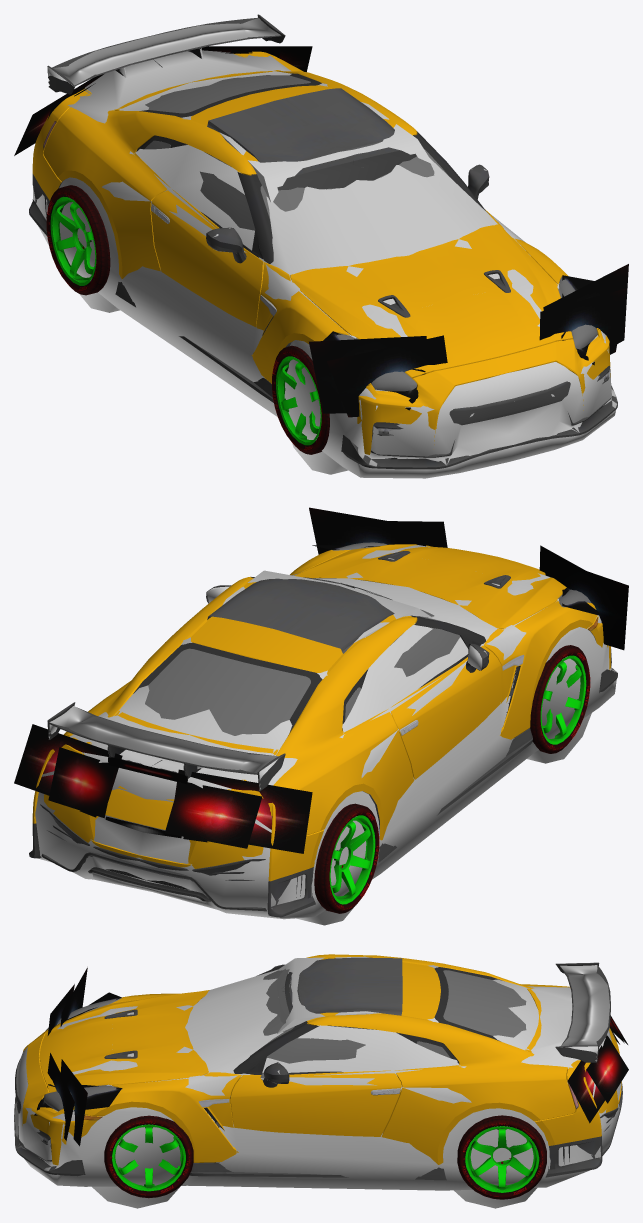
The model's file is P_car-010_Nisun.fbx.
3 views of the same model, one above another, from view 1: azimuth 30°, elevation 25°; view 2: azimuth 150°, elevation 25°; view 3: azimuth 270°, elevation 25° (orthographic). The views are drawn at different scales.
Parts seen in each view (by area): view 1: M_Car-010_ShadowForm_Nisun_01, M_Car-010_Body_Nisun_01 (1), M_Car-010_Details_Nisun_01 (1), M_Car-010_FrontFlares_Nisun_01, M_Car-Interior_Details_01, M_Car-010_Glass_Nisun_01 (1), M_CarWheel-002_L_AP_01 (×2), M_Car-Interior_Shadowform_01, M_Car-Interior_Glass_01, M_CarTire-002_L_AP_01 (×2), M_Car-010_BackFlareBrake_Nisun_01, M_CarTire-002_L_AP (×2); view 2: M_Car-010_Body_Nisun_01 (1), M_Car-010_ShadowForm_Nisun_01, M_Car-010_BackFlareBrake_Nisun_01, M_Car-010_Details_Nisun_01 (1), M_Car-010_Glass_Nisun_01 (1), M_Car-Interior_Details_01, M_Car-010_FrontFlares_Nisun_01, M_CarWheel-002_L_AP_01 (×2), M_CarTire-002_L_AP (×2), M_Car-Interior_Shadowform_01, M_CarTire-002_L_AP_01 (×2); view 3: M_Car-010_Body_Nisun_01 (1), M_Car-010_ShadowForm_Nisun_01, M_Car-010_Details_Nisun_01 (1), M_Car-010_Glass_Nisun_01 (1), M_Car-Interior_Details_01, M_CarWheel-002_L_AP_01 (×2), M_Car-010_FrontFlares_Nisun_01, M_Car-010_BackFlareBrake_Nisun_01, M_CarTire-002_L_AP (×2), M_CarTire-002_L_AP_01 (×2), M_Car-Interior_Shadowform_01, M_Car-Interior_Glass_01.
Part boxes in pixels (x1,y1,x2,y2): M_Car-010_ShadowForm_Nisun_01: [32, 15, 616, 478]; M_Car-010_Body_Nisun_01 (1): [32, 51, 610, 454]; M_Car-010_Details_Nisun_01 (1): [29, 14, 617, 469]; M_Car-010_FrontFlares_Nisun_01: [309, 264, 628, 417]; M_Car-Interior_Details_01: [207, 88, 400, 175]; M_Car-010_Glass_Nisun_01 (1): [144, 75, 597, 391]; M_CarWheel-002_L_AP_01 (×2): [46, 185, 329, 454]; M_Car-Interior_Shadowform_01: [219, 102, 432, 202]; M_Car-Interior_Glass_01: [277, 150, 416, 190]; M_CarTire-002_L_AP_01 (×2): [50, 196, 309, 427]; M_Car-010_BackFlareBrake_Nisun_01: [14, 46, 312, 155]; M_CarTire-002_L_AP (×2): [62, 214, 321, 445]; M_Car-010_Body_Nisun_01 (1): [32, 544, 610, 881]; M_Car-010_ShadowForm_Nisun_01: [35, 545, 616, 925]; M_Car-010_BackFlareBrake_Nisun_01: [14, 724, 312, 853]; M_Car-010_Details_Nisun_01 (1): [29, 551, 617, 917]; M_Car-010_Glass_Nisun_01 (1): [145, 542, 591, 735]; M_Car-Interior_Details_01: [207, 577, 394, 653]; M_Car-010_FrontFlares_Nisun_01: [309, 507, 628, 650]; M_CarWheel-002_L_AP_01 (×2): [314, 645, 590, 913]; M_CarTire-002_L_AP (×2): [337, 656, 586, 904]; M_Car-Interior_Shadowform_01: [222, 570, 432, 642]; M_CarTire-002_L_AP_01 (×2): [329, 655, 574, 903]; M_Car-010_Body_Nisun_01 (1): [22, 954, 621, 1165]; M_Car-010_ShadowForm_Nisun_01: [14, 962, 621, 1208]; M_Car-010_Details_Nisun_01 (1): [14, 962, 622, 1180]; M_Car-010_Glass_Nisun_01 (1): [43, 969, 526, 1111]; M_Car-Interior_Details_01: [260, 957, 402, 1078]; M_CarWheel-002_L_AP_01 (×2): [104, 1115, 546, 1199]; M_Car-010_FrontFlares_Nisun_01: [34, 967, 121, 1146]; M_Car-010_BackFlareBrake_Nisun_01: [568, 1015, 628, 1123]; M_CarTire-002_L_AP (×2): [131, 1129, 539, 1192]; M_CarTire-002_L_AP_01 (×2): [112, 1124, 520, 1188]; M_Car-Interior_Shadowform_01: [261, 956, 380, 1080]; M_Car-Interior_Glass_01: [266, 969, 289, 1023].
Bounding box in the file's own units: 2.31 × 1.51 × 4.74.
